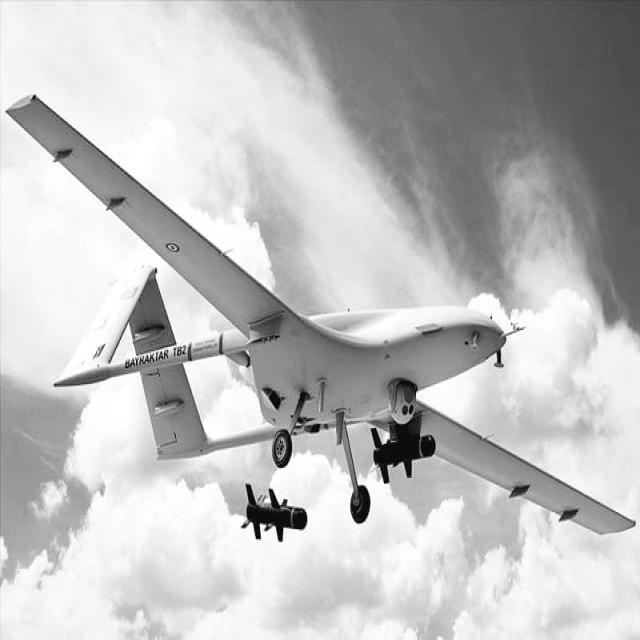iha: (0, 31, 634, 531)
